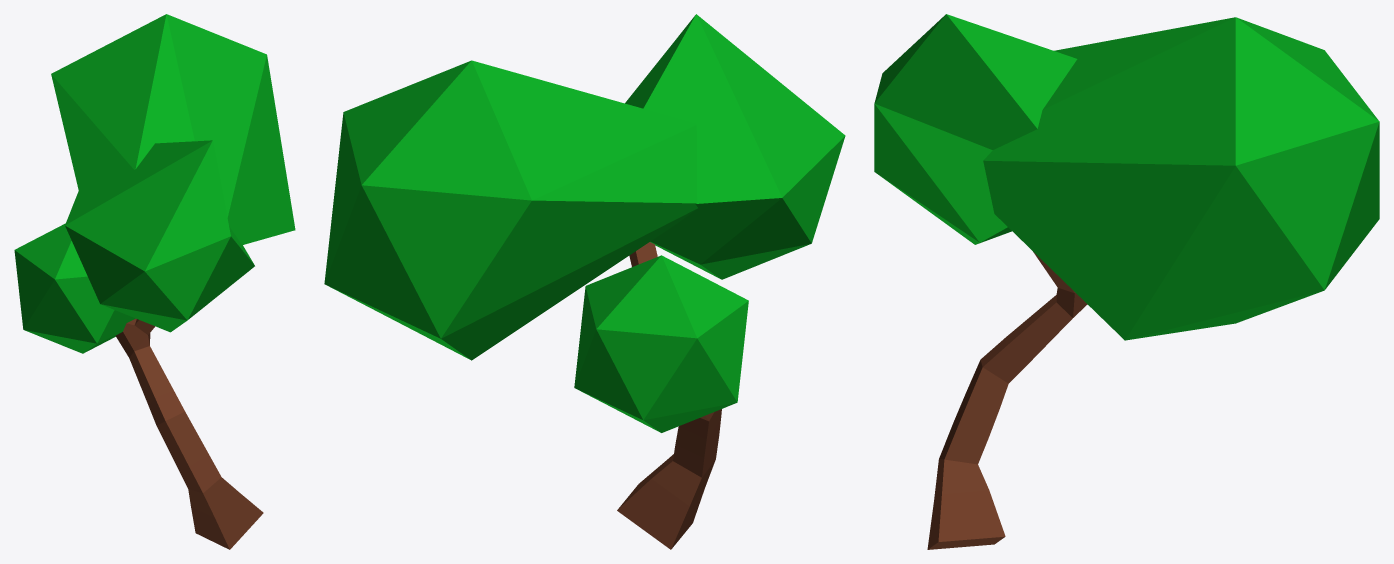
Rendered from TreeWorkpls.fbx.
The picture shows the model from 3 angles, left to right: view 1: azimuth 30°, elevation 25°; view 2: azimuth 150°, elevation 25°; view 3: azimuth 270°, elevation 25°; orthographic projection. The views are drawn at different scales.
Visible parts, largest first — view 1: Icosphere.001, Cube; view 2: Icosphere.001, Cube; view 3: Icosphere.001, Cube.
Part boxes in pixels (box(x1,y1,x2,y2)): Icosphere.001: box(14, 14, 295, 353); Cube: box(116, 318, 263, 549); Icosphere.001: box(324, 14, 845, 432); Cube: box(617, 242, 721, 549); Icosphere.001: box(874, 14, 1379, 340); Cube: box(927, 252, 1087, 549).
Size of the model in its own units: 948 by 1430 by 1153.
